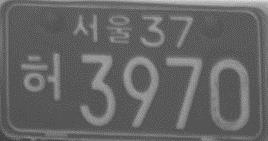0: (208, 57, 252, 131)
3: (78, 52, 118, 127), (139, 13, 165, 49)
7: (163, 54, 204, 134), (168, 13, 194, 49)
9: (118, 52, 161, 129)
서울_O: (71, 12, 133, 45)
허: (19, 49, 64, 102)
